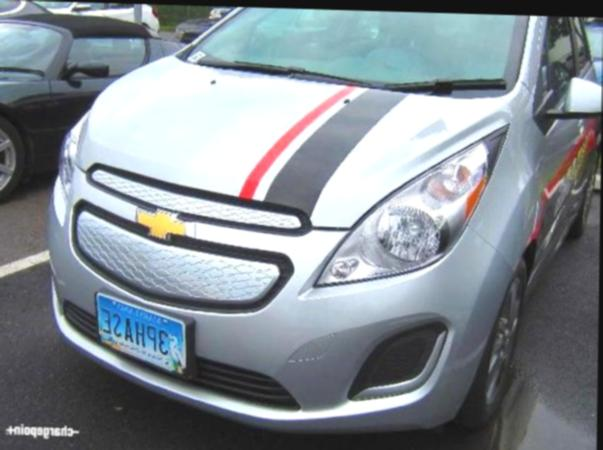License_Plate: (95, 292, 188, 372)
